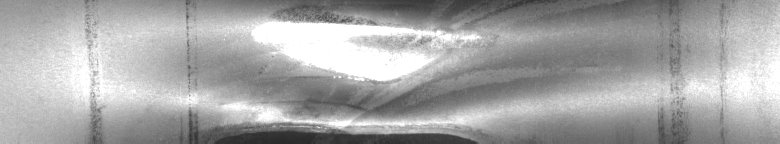ke: (174, 4, 725, 136)
